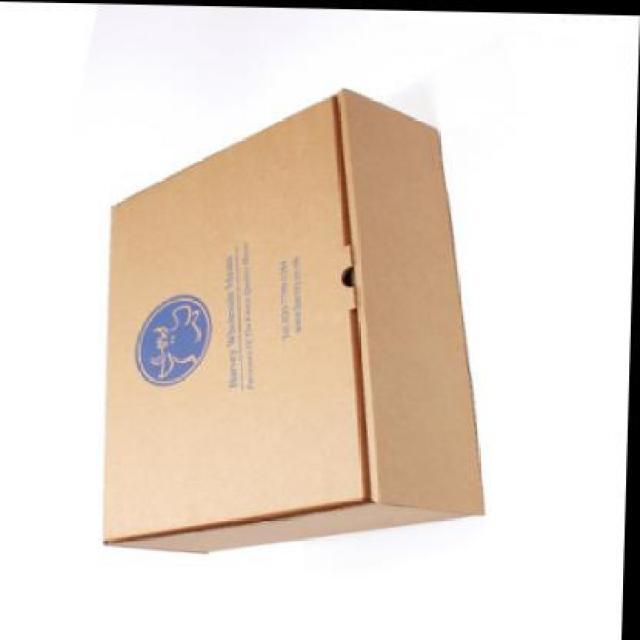box: (106, 81, 499, 558)
